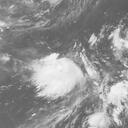cyclone: (32, 54, 85, 99)
